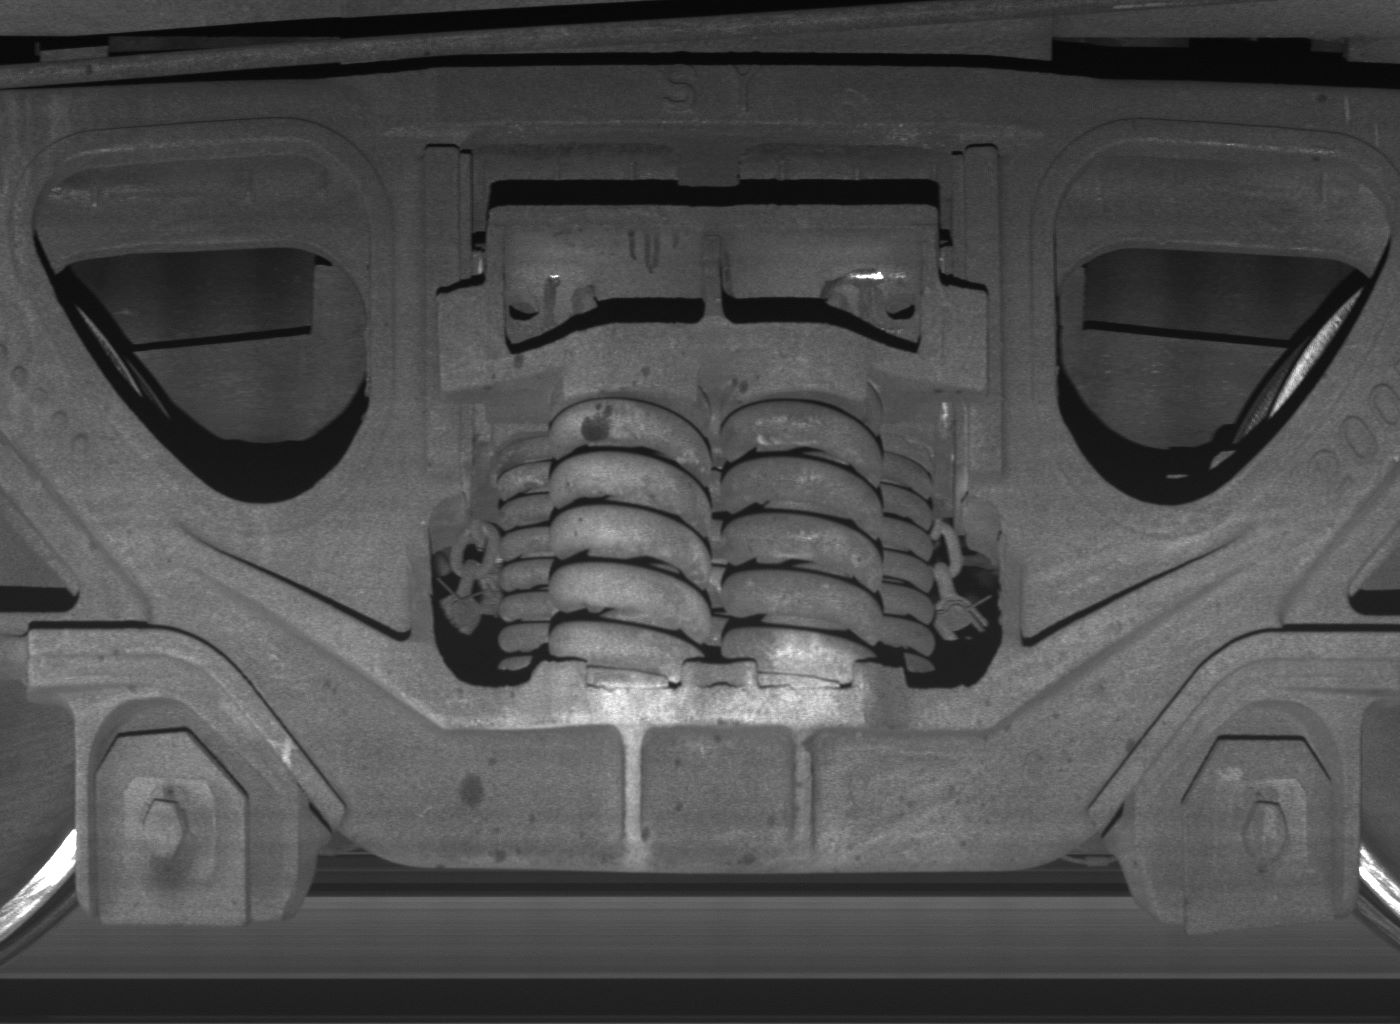Locking plate: (1132, 699, 1357, 939)
normal: (75, 690, 298, 921)
